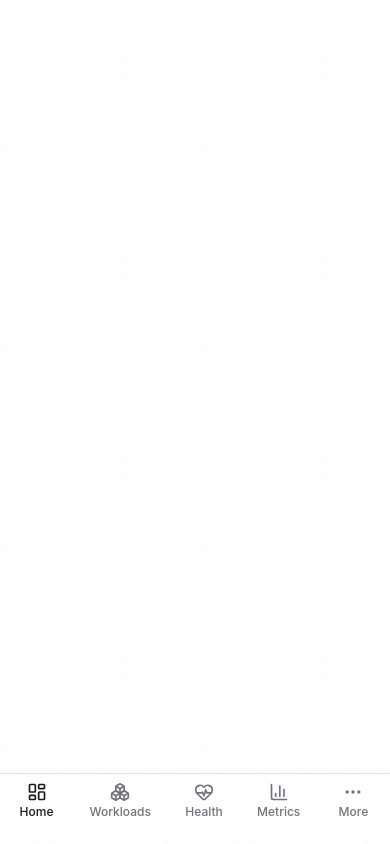
Test: MobileBottomNav › closes drawer when Close button is clicked
The image size is (390, 844).
Click the button with aria-label "More pages".
click(353, 801)  # box x1=325 y1=774 x2=381 y2=828
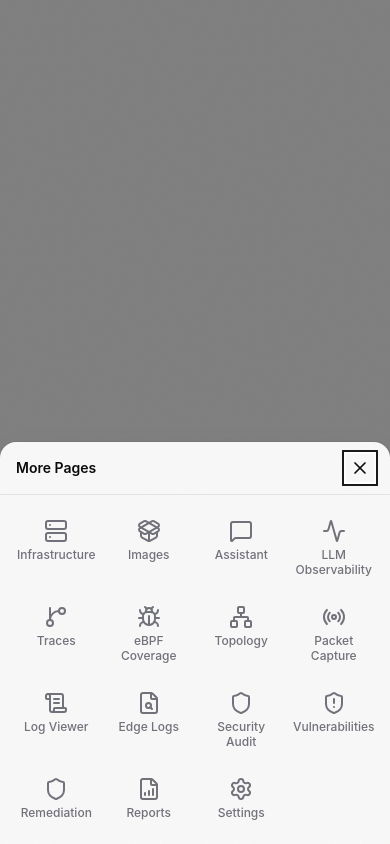
Expected: the text "More Pages" is shown, x1=16 y1=458 x2=96 y2=478
Click the button named "Close more pages".
click(360, 468)  # box x1=346 y1=454 x2=374 y2=482
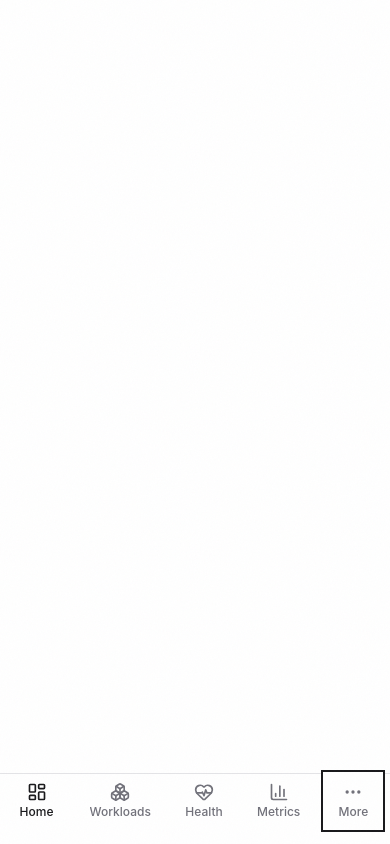
Expected: the text "More Pages" is gone
